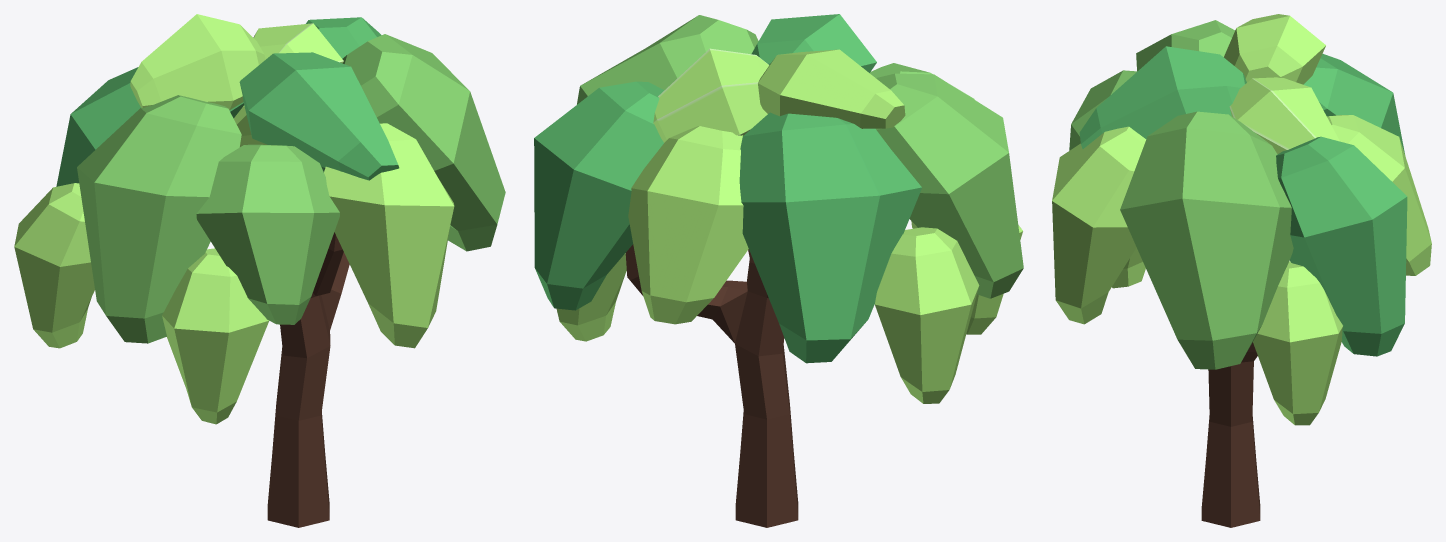
The model's file is Tree_Type2_2.fbx.
The picture shows the model from 3 angles, left to right: view 1: azimuth 30°, elevation 25°; view 2: azimuth 150°, elevation 25°; view 3: azimuth 270°, elevation 25°; orthographic projection. The views are drawn at different scales.
Visible parts, largest first — view 1: Tree_Type2_2; view 2: Tree_Type2_2; view 3: Tree_Type2_2.
Boxes of the visible parts, <box> form: Tree_Type2_2: <box>14,14,505,527</box>; Tree_Type2_2: <box>534,14,1023,527</box>; Tree_Type2_2: <box>1052,14,1431,527</box>.
Bounding box in the file's own units: 324 × 346 × 256.
